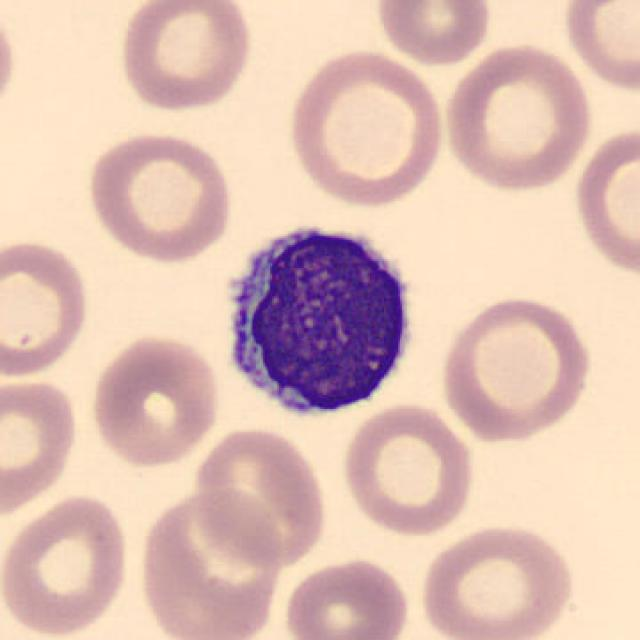Lymphocyte: (208, 210, 423, 426)
RBC: (281, 46, 448, 210), (439, 38, 596, 195), (436, 293, 598, 444), (135, 485, 288, 640), (82, 128, 236, 264), (190, 423, 331, 568), (414, 520, 580, 640), (0, 490, 133, 638), (338, 400, 478, 540), (85, 330, 224, 470), (114, 0, 256, 115), (0, 234, 92, 382), (0, 372, 84, 520), (280, 553, 414, 640), (569, 120, 640, 284), (372, 0, 496, 67), (556, 0, 638, 97), (0, 5, 20, 127)
